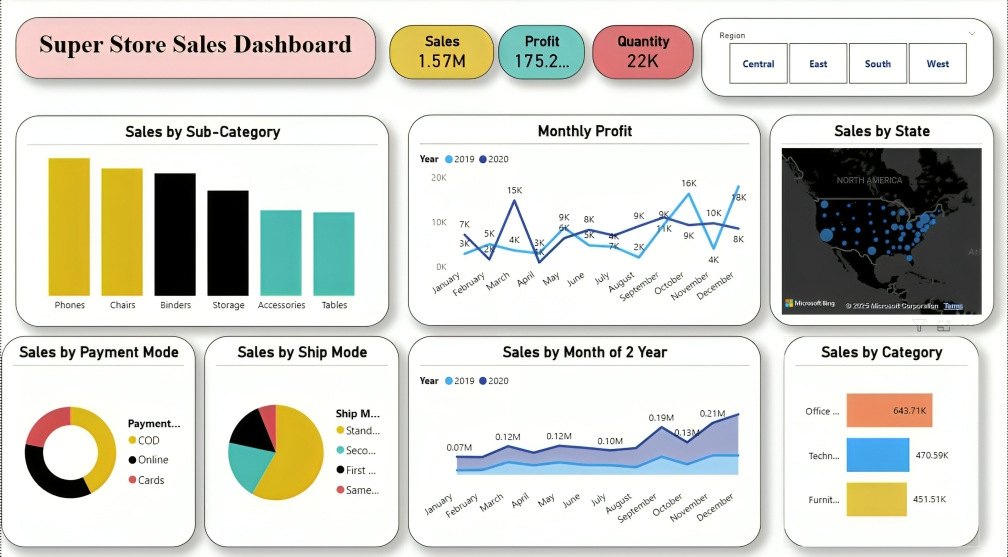

Layout of this report page (visuals, bound fields, positions):
{"tool":"powerbi","page":{"name":"Page 1","canvas":[1280,720],"ordinal":0},"visuals":[{"type":"clusteredBarChart","title":"Sales by Category","fields":{"Category":["SuperStore_Sales_Dataset.Category"],"Y":["Sum(SuperStore_Sales_Dataset.Sales)"]},"box":[995.3,429.5,248.5,269],"z":0},{"type":"columnChart","title":"Sales by Sub-Category","fields":{"Category":["SuperStore_Sales_Dataset.Sub-Category"],"Y":["Sum(SuperStore_Sales_Dataset.Sales)"]},"box":[18.1,148.4,475.3,269],"z":1000},{"type":"pieChart","title":"Sales by Ship Mode","fields":{"Category":["SuperStore_Sales_Dataset.Ship Mode"],"Y":["Sum(SuperStore_Sales_Dataset.Sales)"]},"box":[258,429.5,248.4,269],"z":2000},{"type":"stackedAreaChart","title":"Sales by Month of 2 Year","fields":{"Category":["SuperStore_Sales_Dataset.Order Date.Variation.Date Hierarchy.Month"],"Y":["Sum(SuperStore_Sales_Dataset.Sales)"],"Series":["SuperStore_Sales_Dataset.Order Date.Variation.Date Hierarchy.Year"]},"box":[517.3,429.5,448.7,269],"z":3000},{"type":"lineChart","title":"Monthly Profit","fields":{"Category":["SuperStore_Sales_Dataset.Order Date.Variation.Date Hierarchy.Month"],"Y":["Sum(SuperStore_Sales_Dataset.Profit)"],"Series":["SuperStore_Sales_Dataset.Order Date.Variation.Date Hierarchy.Year"]},"box":[517.3,148.2,448.7,269],"z":4000},{"type":"map","title":"Sales by State","fields":{"Category":["SuperStore_Sales_Dataset.State"],"Size":["Sum(SuperStore_Sales_Dataset.Sales)"]},"box":[977,148.2,285.4,269],"z":5000},{"type":"donutChart","title":" Sales by Payment Mode","fields":{"Category":["SuperStore_Sales_Dataset.Payment Mode"],"Y":["Sum(SuperStore_Sales_Dataset.Sales)"]},"box":[0,429.5,247,269],"z":6000},{"type":"slicer","fields":{"Values":["SuperStore_Sales_Dataset.Region"]},"box":[890.2,24.5,371.7,100.3],"z":7000},{"type":"textbox","box":[18.1,24.1,458.4,78.4],"z":8000},{"type":"card","title":"Sales","fields":{"Values":["Sum(SuperStore_Sales_Dataset.Sales)"]},"box":[494,34.3,133.1,68.6],"z":9000},{"type":"card","title":"Profit","fields":{"Values":["Sum(SuperStore_Sales_Dataset.Profit)"]},"box":[632.6,34.3,109.8,68.6],"z":10000},{"type":"card","title":"Quantity","fields":{"Values":["Sum(SuperStore_Sales_Dataset.Quantity)"]},"box":[752,34.3,129,68.6],"z":11000}]}

Visuals, with their boxes in screenshot pixels (x1, y1, x2, y2), scaled from the page's 1280x720 canvas onto the 1008x557 screenshot:
"Sales by Category" clusteredBarChart: x1=784 y1=332 x2=979 y2=540
"Sales by Sub-Category" columnChart: x1=14 y1=115 x2=389 y2=323
"Sales by Ship Mode" pieChart: x1=203 y1=332 x2=399 y2=540
"Sales by Month of 2 Year" stackedAreaChart: x1=407 y1=332 x2=761 y2=540
"Monthly Profit" lineChart: x1=407 y1=115 x2=761 y2=323
"Sales by State" map: x1=769 y1=115 x2=994 y2=323
" Sales by Payment Mode" donutChart: x1=0 y1=332 x2=195 y2=540
slicer - SuperStore_Sales_Dataset.Region: x1=701 y1=19 x2=994 y2=97
textbox: x1=14 y1=19 x2=375 y2=79
"Sales" card: x1=389 y1=27 x2=494 y2=80
"Profit" card: x1=498 y1=27 x2=585 y2=80
"Quantity" card: x1=592 y1=27 x2=694 y2=80
